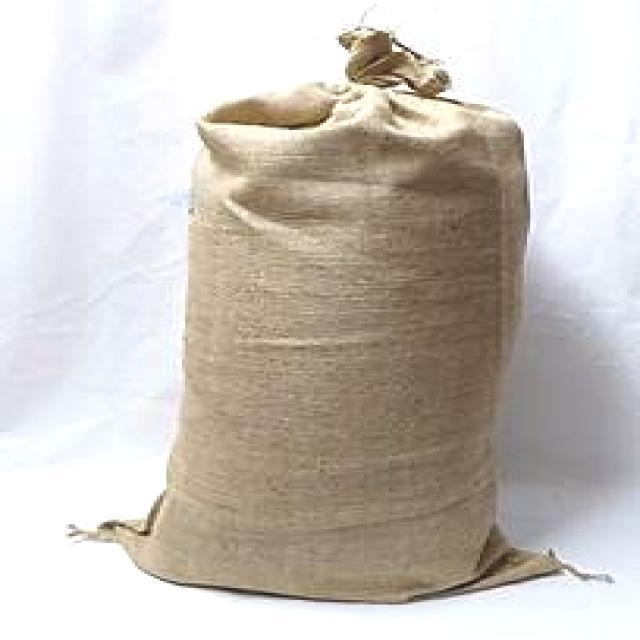gunny_bag: (77, 30, 579, 611)
